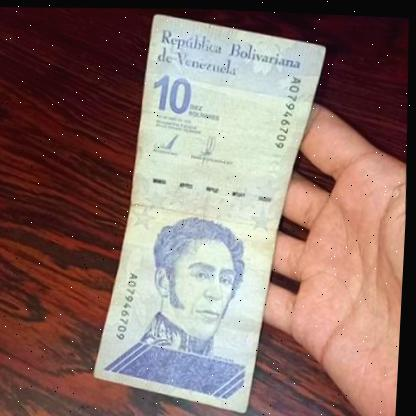vef_front: (83, 7, 339, 416)
